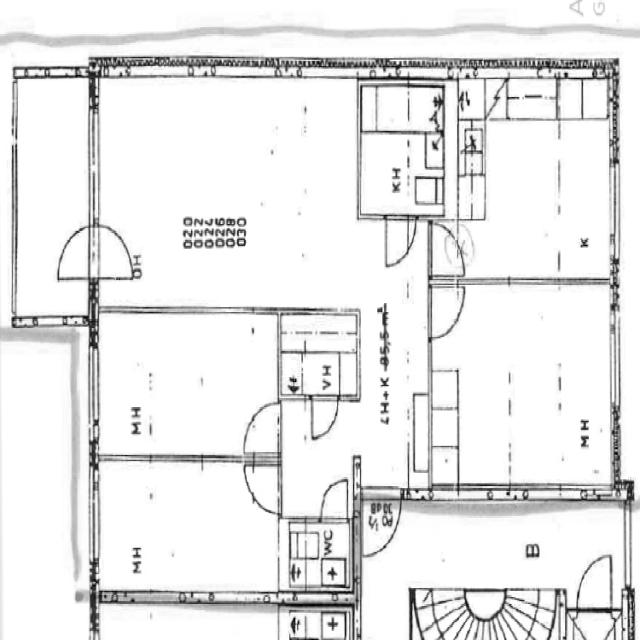door: (361, 484, 402, 560), (92, 218, 138, 284), (573, 549, 616, 615), (238, 397, 283, 458), (53, 221, 95, 285), (426, 271, 464, 341), (242, 457, 282, 518), (381, 212, 416, 272), (317, 473, 352, 527), (308, 394, 341, 442)
window: (82, 96, 105, 230), (604, 301, 626, 415), (85, 465, 107, 570), (85, 338, 105, 436), (605, 153, 623, 260), (621, 508, 637, 592)
zone: (96, 59, 360, 314), (428, 280, 620, 504), (429, 66, 616, 286), (89, 312, 279, 460), (90, 460, 280, 607), (9, 67, 92, 320), (360, 82, 453, 220), (278, 310, 358, 400), (281, 518, 352, 600), (364, 488, 402, 556)
